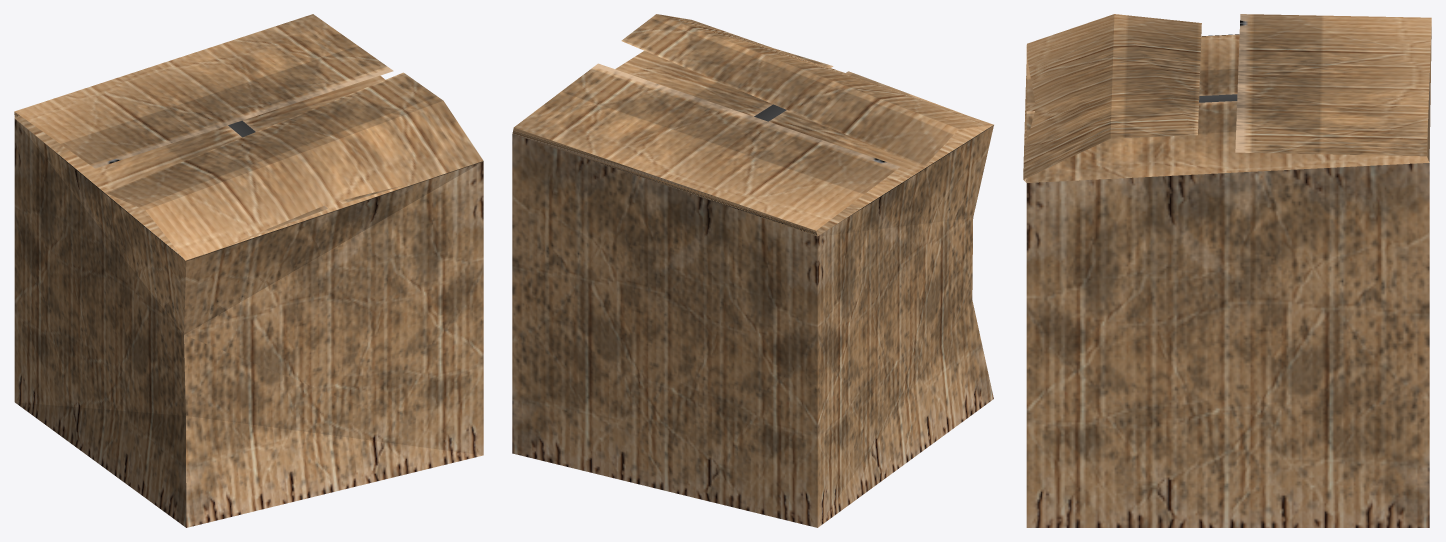
3 renders of one model, left to right at view 1: azimuth 30°, elevation 25°; view 2: azimuth 150°, elevation 25°; view 3: azimuth 270°, elevation 25°, orthographic. The views are drawn at different scales.
Parts seen in each view (by area): view 1: wood; view 2: wood; view 3: wood.
Boxes of the visible parts, <box> form: wood: <box>14,14,483,527</box>; wood: <box>512,14,993,527</box>; wood: <box>1023,14,1431,527</box>.
Bounding box in the file's own units: 100 × 104 × 99.4.
Materials: 1 (1 with a texture image).
